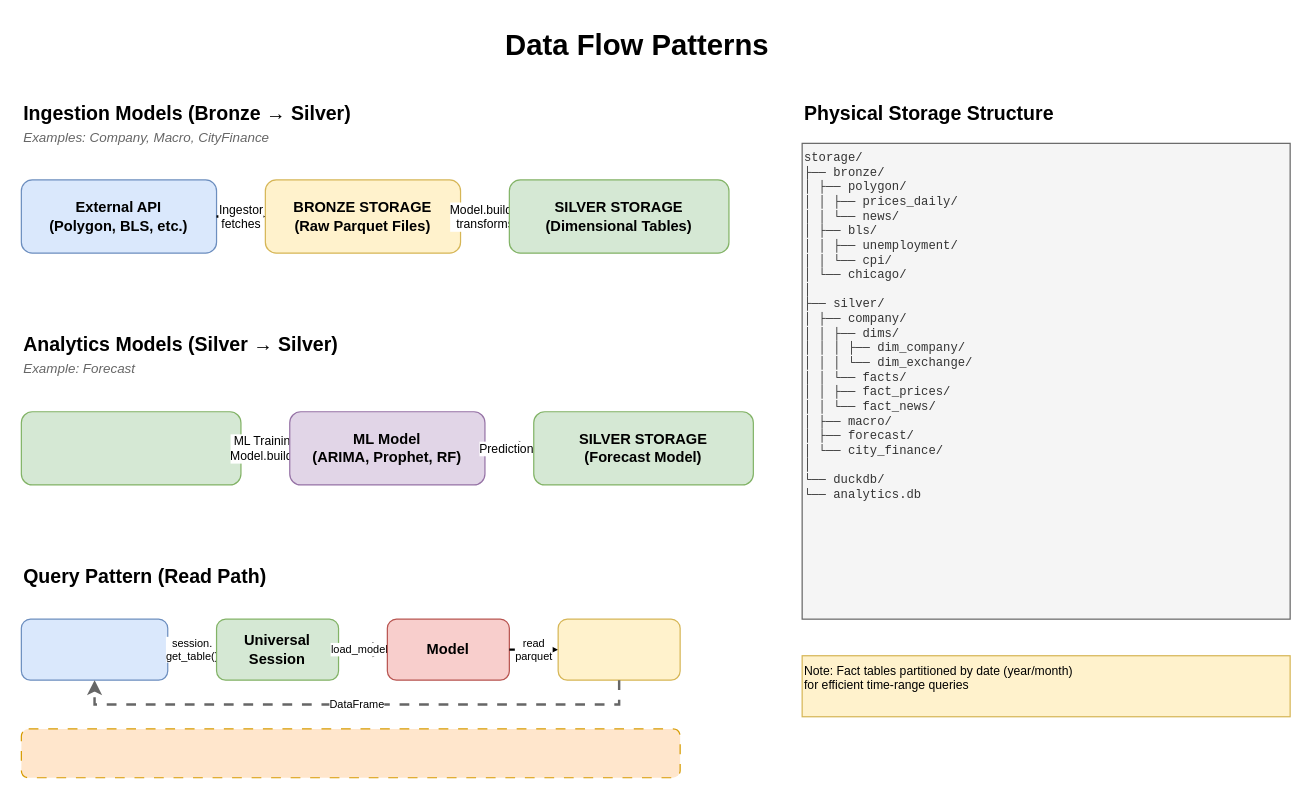
Some shapes in this 1312 by 799 pixel diagram are drawn without their labels. The box of each missing label's shape, as (x1, y1, x2, y2) in pixels:
FilterEngine (can be called at any step): (20, 728, 680, 778)
Physical Storage: (557, 618, 680, 680)
SILVER STORAGE (Company Model): (20, 411, 241, 485)
User Code: (20, 618, 168, 680)
